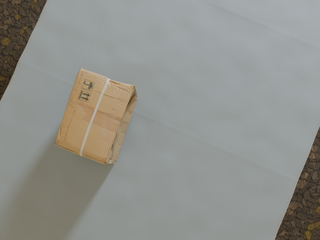box: (55, 68, 137, 165)
